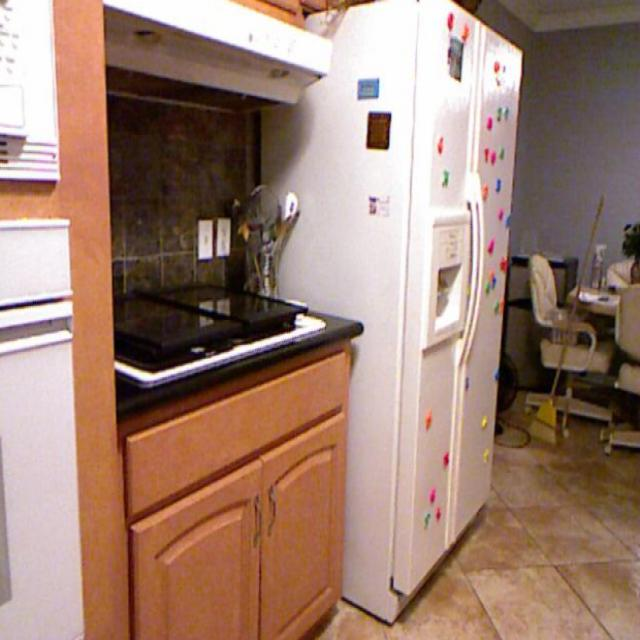chair: (529, 248, 607, 428)
column: (353, 3, 504, 581)
door: (143, 489, 265, 640), (266, 450, 348, 636)
